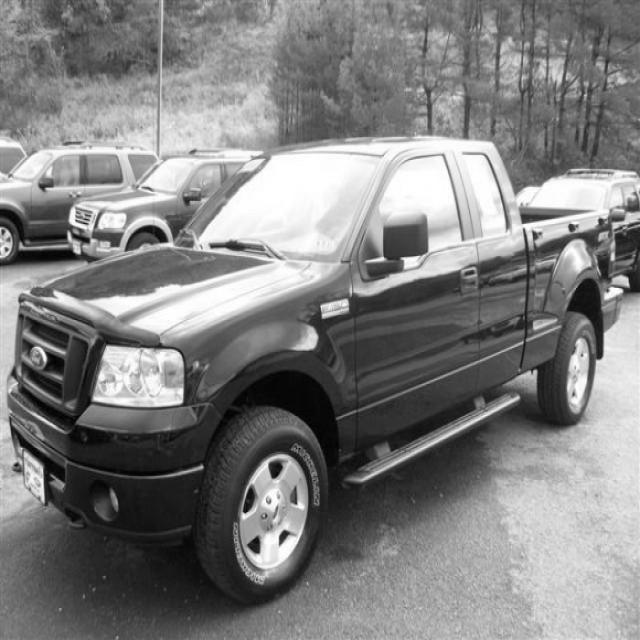car: (6, 133, 624, 606)
plat_license: (21, 446, 47, 506)
